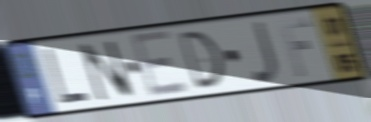D: (176, 28, 228, 93)
E: (127, 28, 192, 101)
F: (276, 16, 313, 79)
J: (249, 18, 281, 85)
L: (41, 46, 93, 108)
N: (76, 39, 138, 104)
